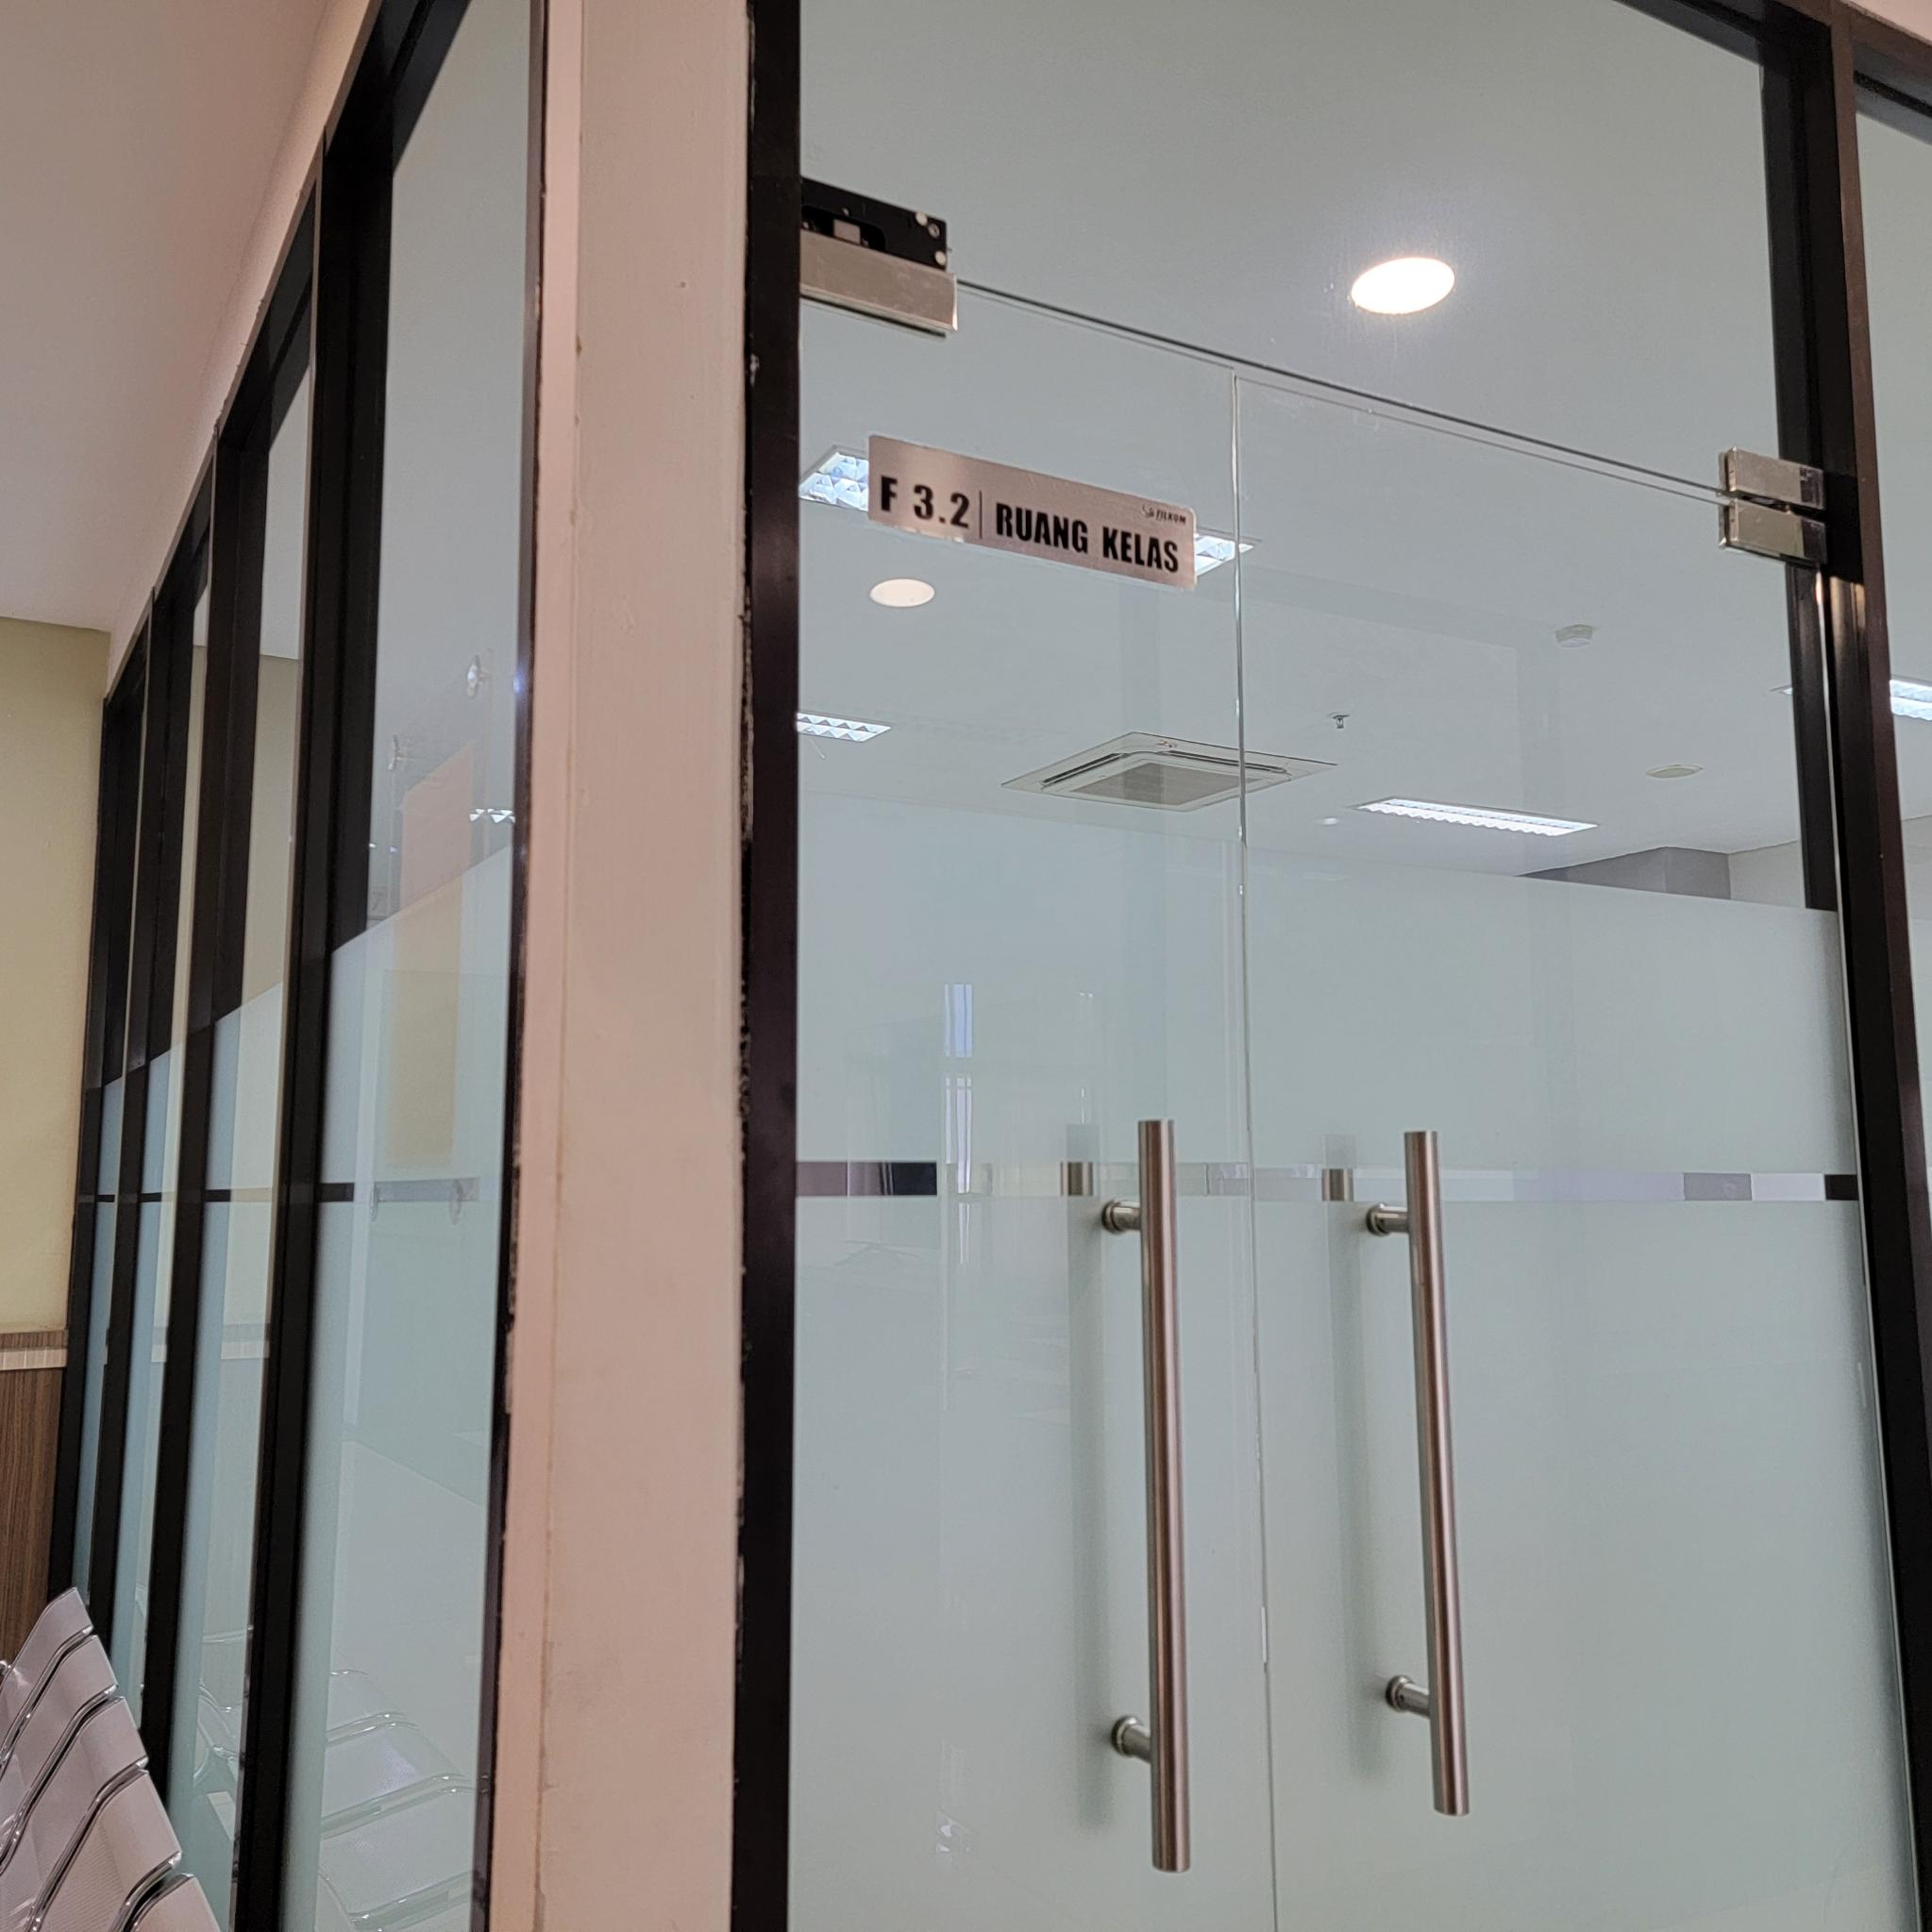plate: (869, 432, 1198, 591)
